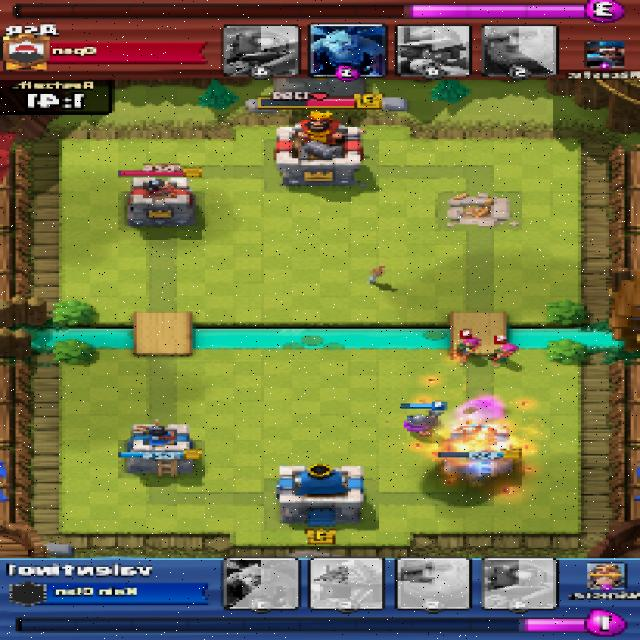Enemy-Archer: (486, 344, 519, 360), (459, 335, 479, 360)
Enemy-Fireball: (428, 420, 529, 477)
Player-Musketeer: (403, 406, 446, 434)
